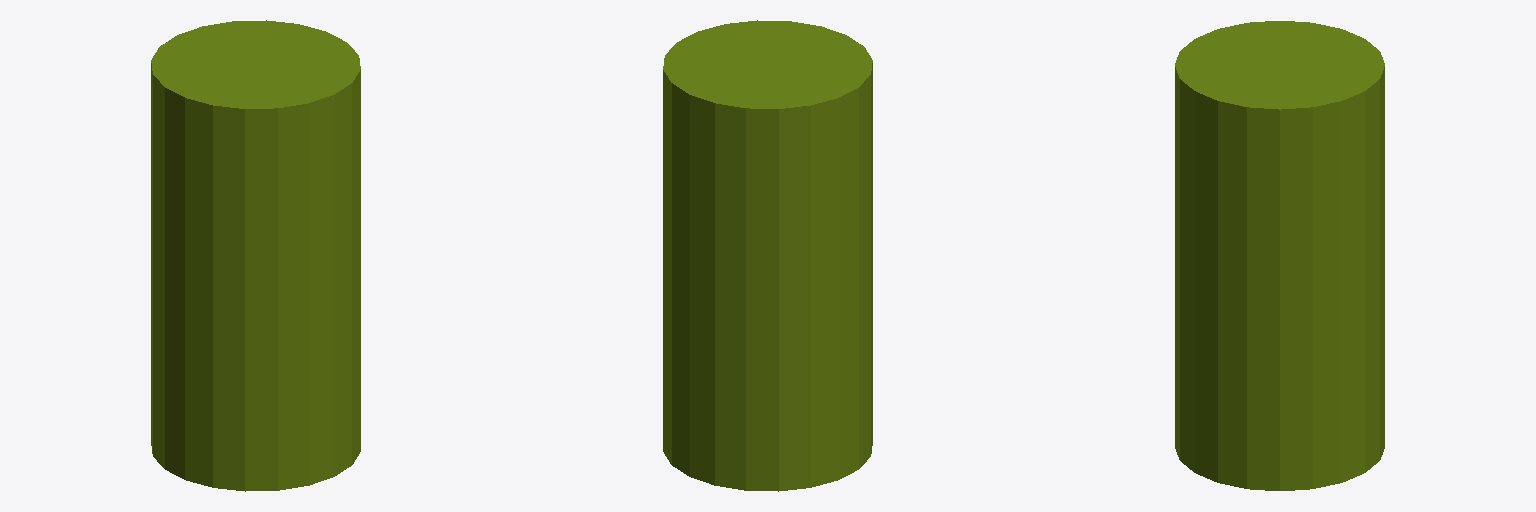
robot.urdf — cylinder:
<robot name="cylinder">
  <link name="_name">
    <contact>
      <lateral_friction value="1.0"/>
      <rolling_friction value="0.0"/>
      <contact_cfm value="0.0"/>
      <contact_erp value="1.0"/>
    </contact>
    <visual>
      <origin xyz="-2.0347968337764762e-19 0.024000000000000004 -0.03000000000000001" rpy="0 0 0" />
      <geometry>
	<mesh filename="cylinder/tinker.obj" scale="0.001 0.001 0.001" />
      </geometry>
      <material name="texture">
	<color rgba="0.45815538934366873 0.5622777225161942 0.12222557471515583 1.0" />
      </material>
    </visual>
    <collision>
      <geometry>
	<mesh filename="cylinder/tinker_vhacd.obj" scale="0.001 0.001 0.001" />
      </geometry>
    <origin xyz="-2.0347968337764762e-19 0.024000000000000004 -0.03000000000000001" rpy="0 0 0" /></collision>
    <inertial>
      <mass value="1.0" />
      <inertia ixx="1.0" ixy="0.0" ixz="0.0" iyy="1.0" iyz="0.0" izz="1.0" />
    </inertial>
  </link>
</robot>

--- Facts derived from the render (not from the file) ---
3 views of the same robot in one strip: view 1: azimuth 30°, elevation 25°; view 2: azimuth 150°, elevation 25°; view 3: azimuth 270°, elevation 25° (orthographic).
Model cylinder with 1 links and 0 joints (none), rooted at _name, posed all joints at 0.
Visible links, largest first — view 1: _name; view 2: _name; view 3: _name.
Link boxes in pixels (left/top/right/bottom): _name: left=151, top=20, right=360, bottom=491; _name: left=663, top=20, right=872, bottom=491; _name: left=1175, top=21, right=1384, bottom=490.
Bounding box of the posed robot: 0.03 × 0.03 × 0.06 m (x, y, z).
1 mesh visuals loaded from 1 distinct referenced files (1 OBJ).